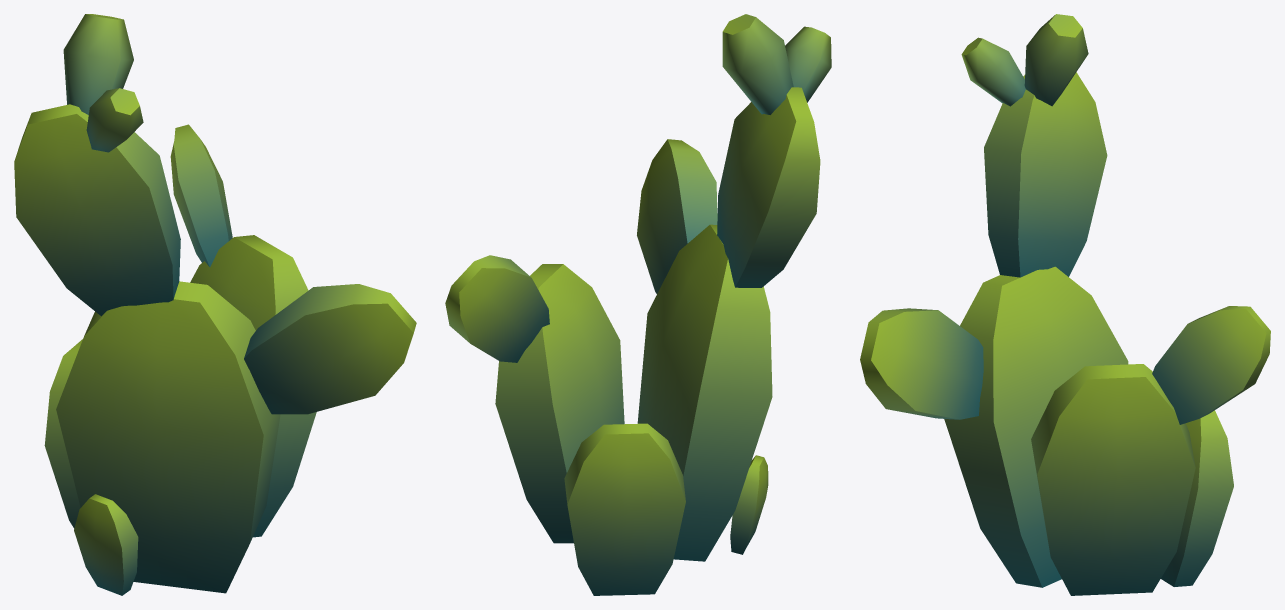
Rendered from CactusFlat.glb.
3 views of the same model, side by side, from view 1: azimuth 30°, elevation 25°; view 2: azimuth 150°, elevation 25°; view 3: azimuth 270°, elevation 25° (orthographic). The views are drawn at different scales.
Parts seen in each view (by area): view 1: CactusFlat; view 2: CactusFlat; view 3: CactusFlat.
Part boxes in pixels (<box>): CactusFlat: <box>14,14,416,595</box>; CactusFlat: <box>445,14,831,595</box>; CactusFlat: <box>860,14,1270,595</box>.
Size of the model in its own units: 0.5677 by 1.06 by 0.7489.
